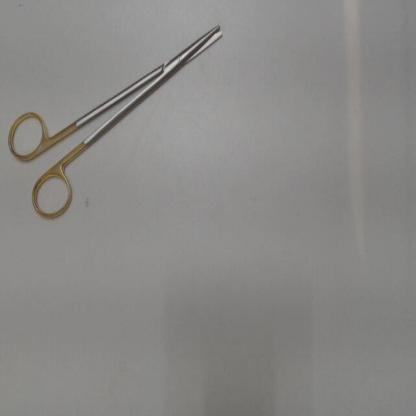7 Metzenbaum Scissors: (4, 18, 227, 225)
